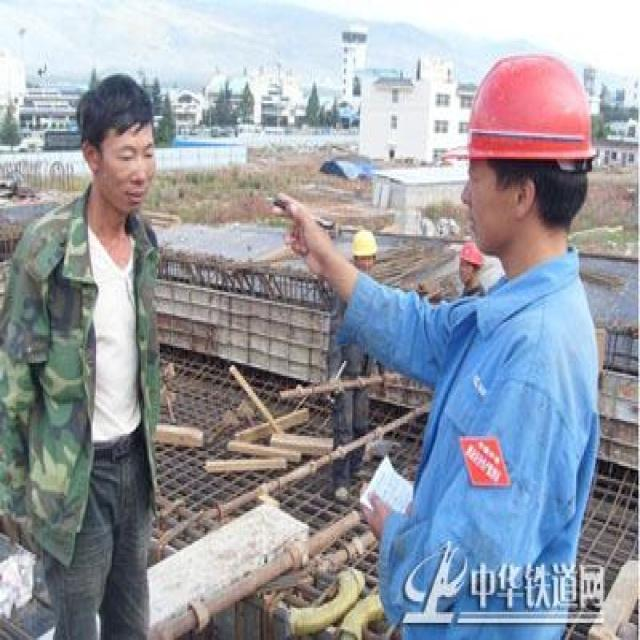helmet: (459, 74, 593, 358), (349, 302, 383, 374), (457, 321, 484, 384)
